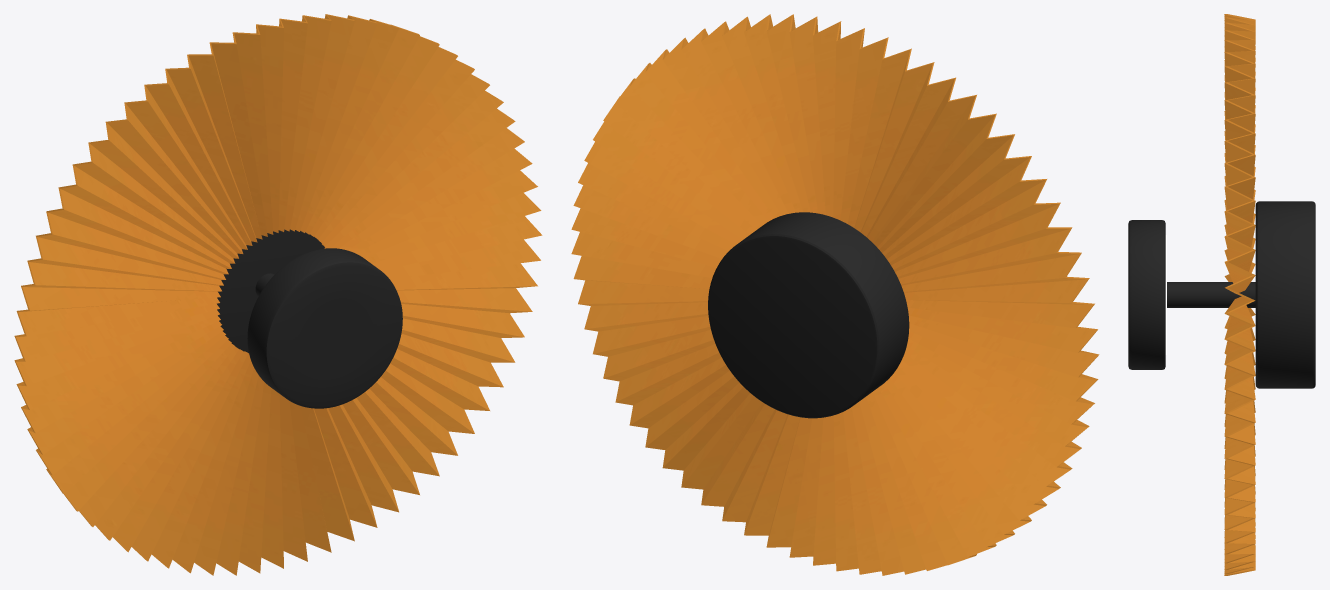
3 views of the same model, side by side, from view 1: azimuth 30°, elevation 25°; view 2: azimuth 150°, elevation 25°; view 3: azimuth 270°, elevation 25° (orthographic). The views are drawn at different scales.
Parts seen in each view (by area): view 1: fan, metal; view 2: fan, metal; view 3: metal, fan.
Part boxes in pixels (x1,y1,x2,y2): fan: [14, 14, 542, 575]; metal: [217, 229, 402, 408]; fan: [571, 14, 1099, 575]; metal: [708, 212, 909, 418]; metal: [1128, 201, 1315, 388]; fan: [1224, 14, 1255, 575].
Size of the model in its own units: 0.3 by 0.3 by 0.1.
3 materials, 1 textured.
